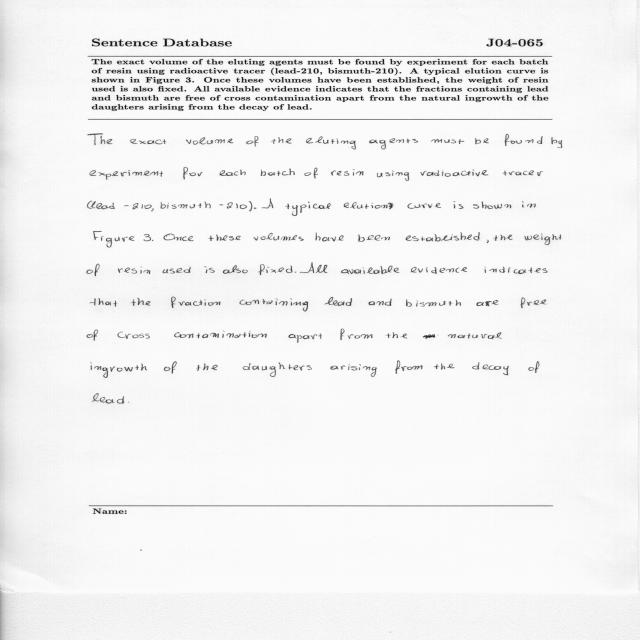word: (240, 298, 309, 312), (243, 363, 312, 377), (91, 362, 147, 378), (405, 232, 480, 242), (174, 331, 267, 339), (90, 170, 163, 180), (94, 231, 135, 248), (306, 137, 356, 150), (285, 202, 331, 216), (330, 364, 377, 377), (423, 333, 502, 340), (171, 297, 221, 308), (369, 139, 418, 150), (178, 202, 247, 209), (421, 170, 489, 177), (504, 134, 543, 146), (341, 266, 399, 274), (525, 233, 562, 245), (472, 363, 509, 375), (485, 267, 548, 274), (406, 299, 461, 307), (124, 202, 169, 211), (254, 233, 304, 241), (411, 267, 467, 274), (186, 137, 233, 145), (259, 264, 293, 275), (395, 361, 423, 374), (340, 329, 373, 340), (377, 170, 409, 181), (344, 202, 394, 209), (288, 333, 322, 343), (521, 298, 547, 309), (300, 263, 328, 273), (261, 168, 295, 176), (473, 202, 511, 209), (88, 134, 112, 145), (358, 234, 390, 242), (118, 266, 150, 274), (316, 233, 344, 242), (503, 170, 544, 176), (90, 298, 117, 307), (325, 297, 352, 306), (183, 168, 203, 180), (164, 233, 194, 241), (117, 332, 150, 339), (223, 265, 248, 274), (331, 169, 363, 176), (87, 201, 115, 209), (93, 394, 115, 404), (407, 203, 441, 209), (163, 267, 191, 274), (209, 235, 241, 241), (219, 169, 246, 176), (369, 298, 392, 306), (130, 139, 166, 144), (197, 363, 218, 371), (431, 139, 464, 144), (87, 264, 100, 276), (164, 362, 177, 374), (304, 168, 318, 179), (132, 298, 151, 306), (386, 332, 407, 339), (528, 361, 540, 373), (246, 136, 259, 147), (272, 137, 292, 144), (434, 363, 454, 370), (494, 234, 513, 241), (477, 300, 498, 306), (551, 137, 562, 148), (87, 330, 98, 341), (262, 199, 274, 209), (522, 201, 536, 208), (453, 201, 464, 209), (475, 138, 489, 144), (204, 266, 215, 273), (117, 396, 124, 404), (144, 234, 151, 241), (249, 201, 253, 211), (172, 204, 177, 209), (487, 240, 489, 243), (254, 207, 256, 209), (295, 272, 297, 273), (152, 240, 153, 241)
